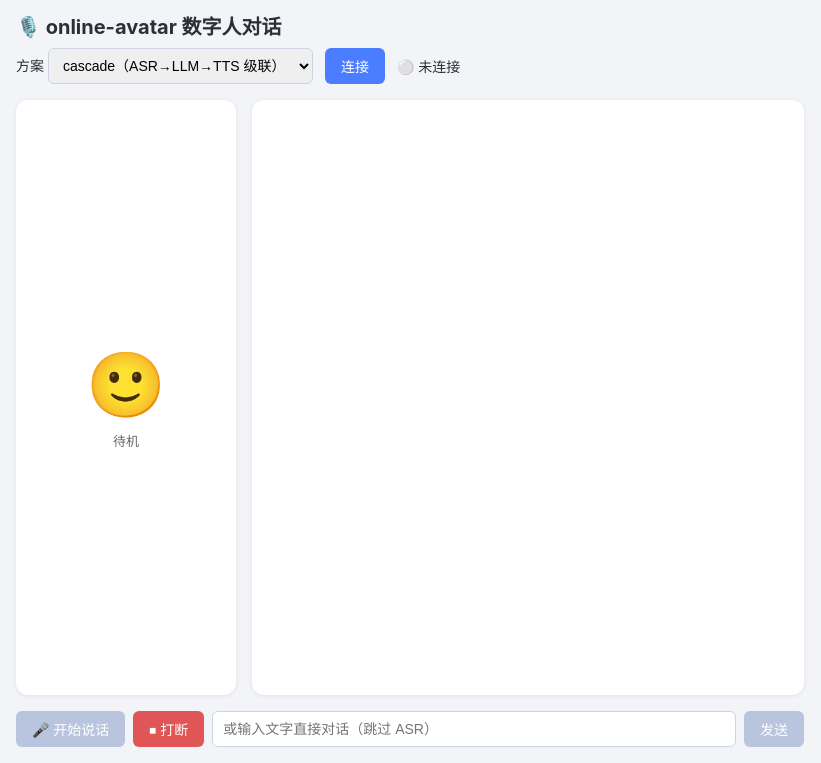
Test: App.vue 冒烟 › 挂载后显示未连接，点击连接后状态更新
Click the button "连接". click: (355, 66)
box: [325, 48, 385, 84]
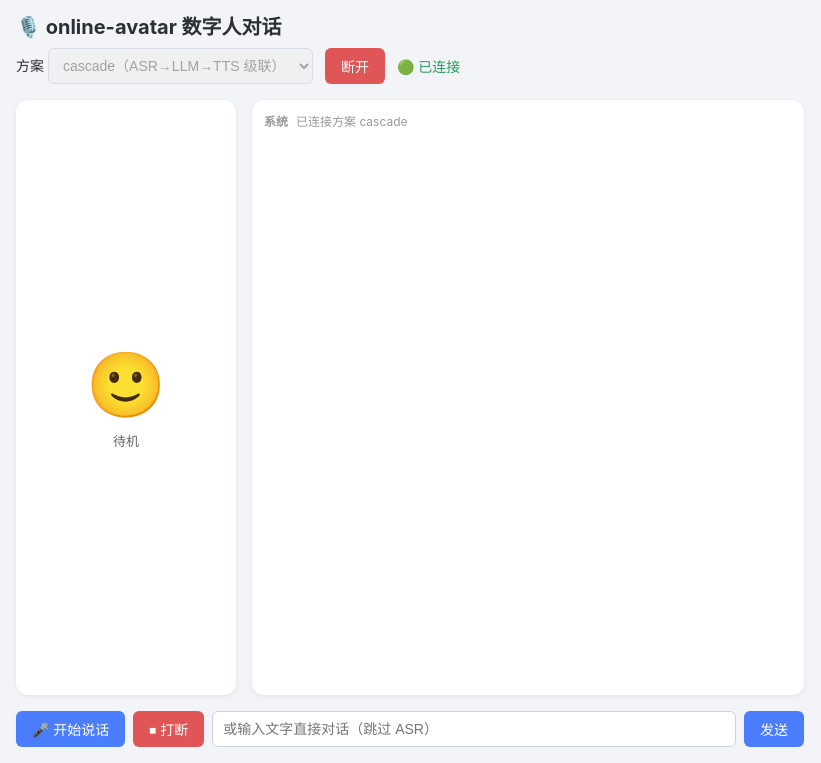
Result: the text "已连接" is shown at [397, 58, 460, 75]
Result: the text "断开" is shown at [325, 48, 385, 84]
